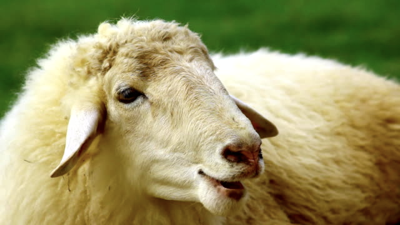koyun: (49, 13, 277, 220)
